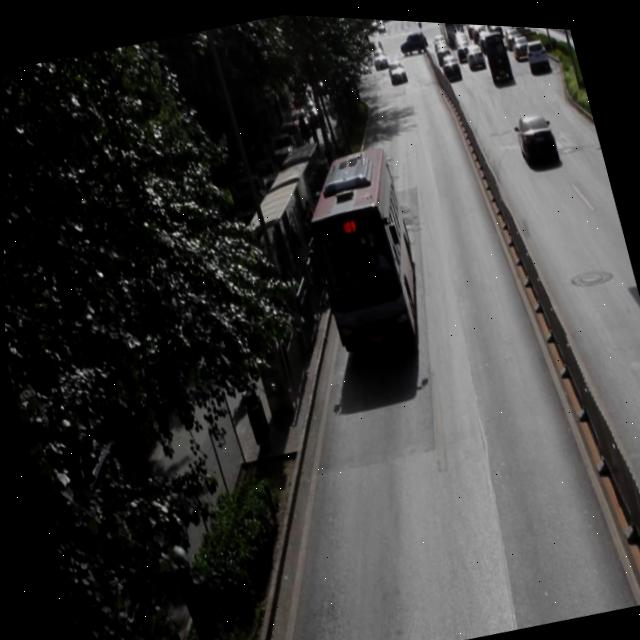car: (510, 101, 558, 160)
van: (292, 136, 430, 349)
